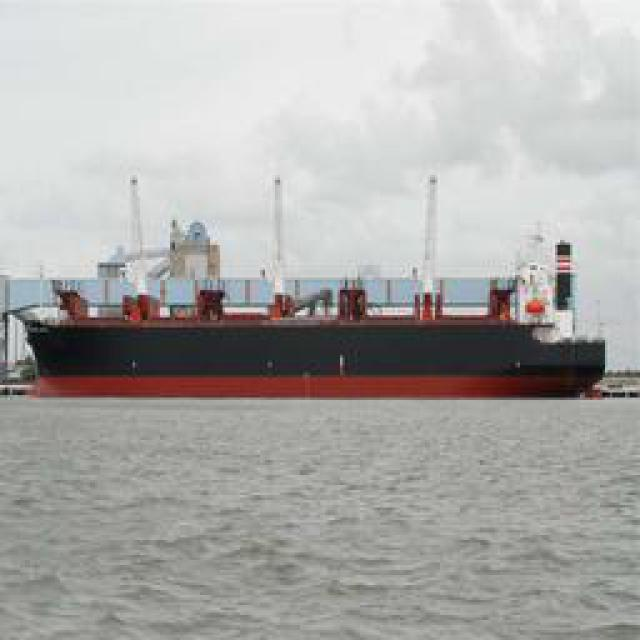Ship: (1, 264, 624, 378)
